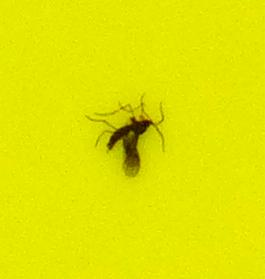Nematocera: (100, 100, 165, 179)
